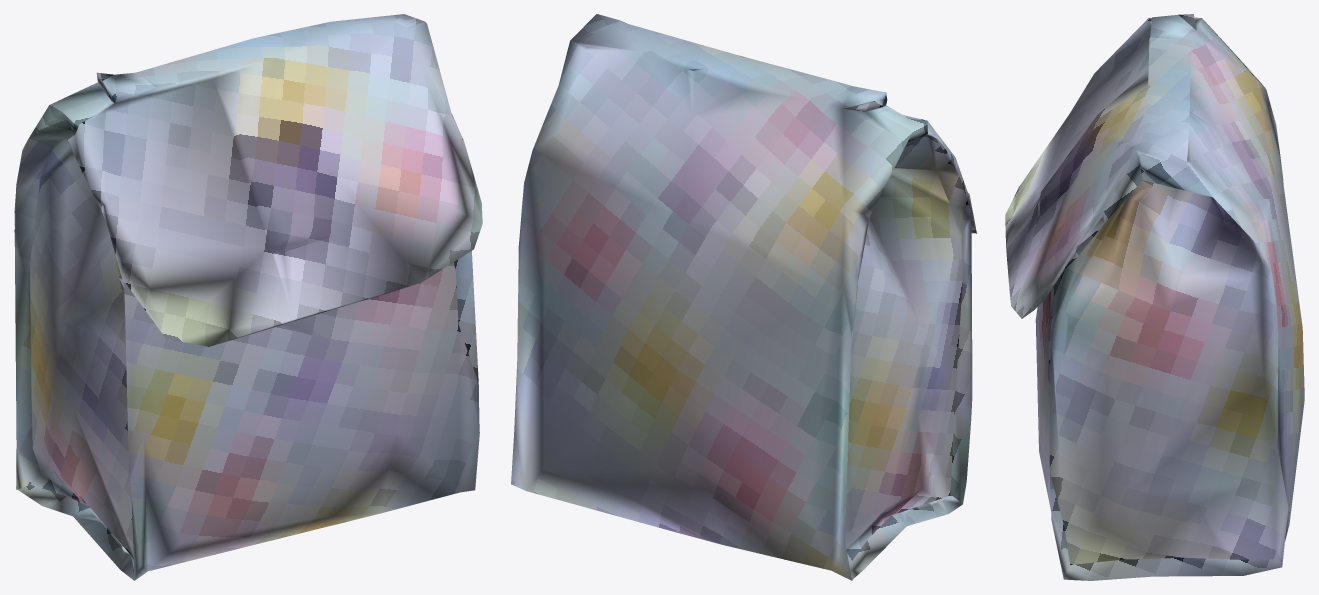
File: Olive_Kids_Butterfly_Garden_Munch_n_Lunch_Bag-low.glb
3 renders of one model, left to right at view 1: azimuth 30°, elevation 25°; view 2: azimuth 150°, elevation 25°; view 3: azimuth 270°, elevation 25°, orthographic. The views are drawn at different scales.
Parts seen in each view (by area): view 1: Olive_Kids_Butterfly_Garden_Munch_n_Lunch_Bag; view 2: Olive_Kids_Butterfly_Garden_Munch_n_Lunch_Bag; view 3: Olive_Kids_Butterfly_Garden_Munch_n_Lunch_Bag.
Part boxes in pixels (bbox=[...]): Olive_Kids_Butterfly_Garden_Munch_n_Lunch_Bag: bbox=[14, 14, 482, 580]; Olive_Kids_Butterfly_Garden_Munch_n_Lunch_Bag: bbox=[511, 14, 976, 580]; Olive_Kids_Butterfly_Garden_Munch_n_Lunch_Bag: bbox=[1005, 14, 1304, 580].
Size of the model in its own units: 0.2242 by 0.2637 by 0.1673.
1 material, 1 textured.
